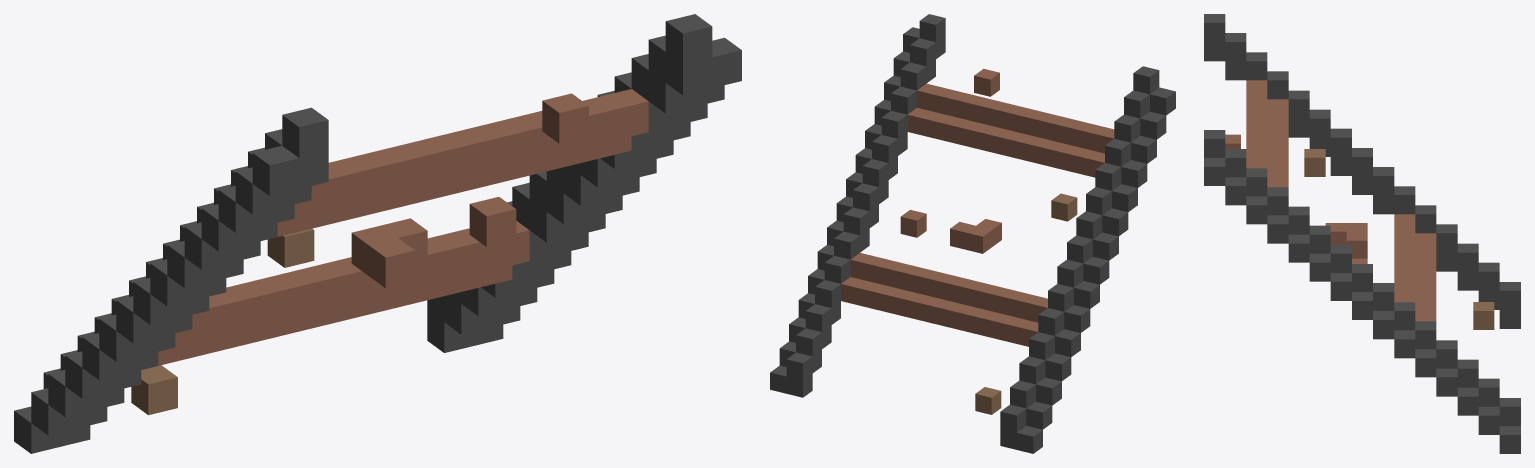
Rendered from RailDownStraight.fbx.
The picture shows the model from 3 angles, left to right: view 1: azimuth 30°, elevation 25°; view 2: azimuth 150°, elevation 25°; view 3: azimuth 270°, elevation 25°; orthographic projection. The views are drawn at different scales.
Visible parts, largest first — view 1: Rails, Connectors; view 2: Rails, Connectors; view 3: Rails, Connectors.
Boxes of the visible parts, x1,y1,x2,y2 form: Rails: (14,14,741,453); Connectors: (131,89,648,415); Rails: (770,14,1175,453); Connectors: (841,68,1114,414); Rails: (1204,14,1520,453); Connectors: (1225,80,1494,329).
Size of the model in its own units: 160 by 160 by 150.
